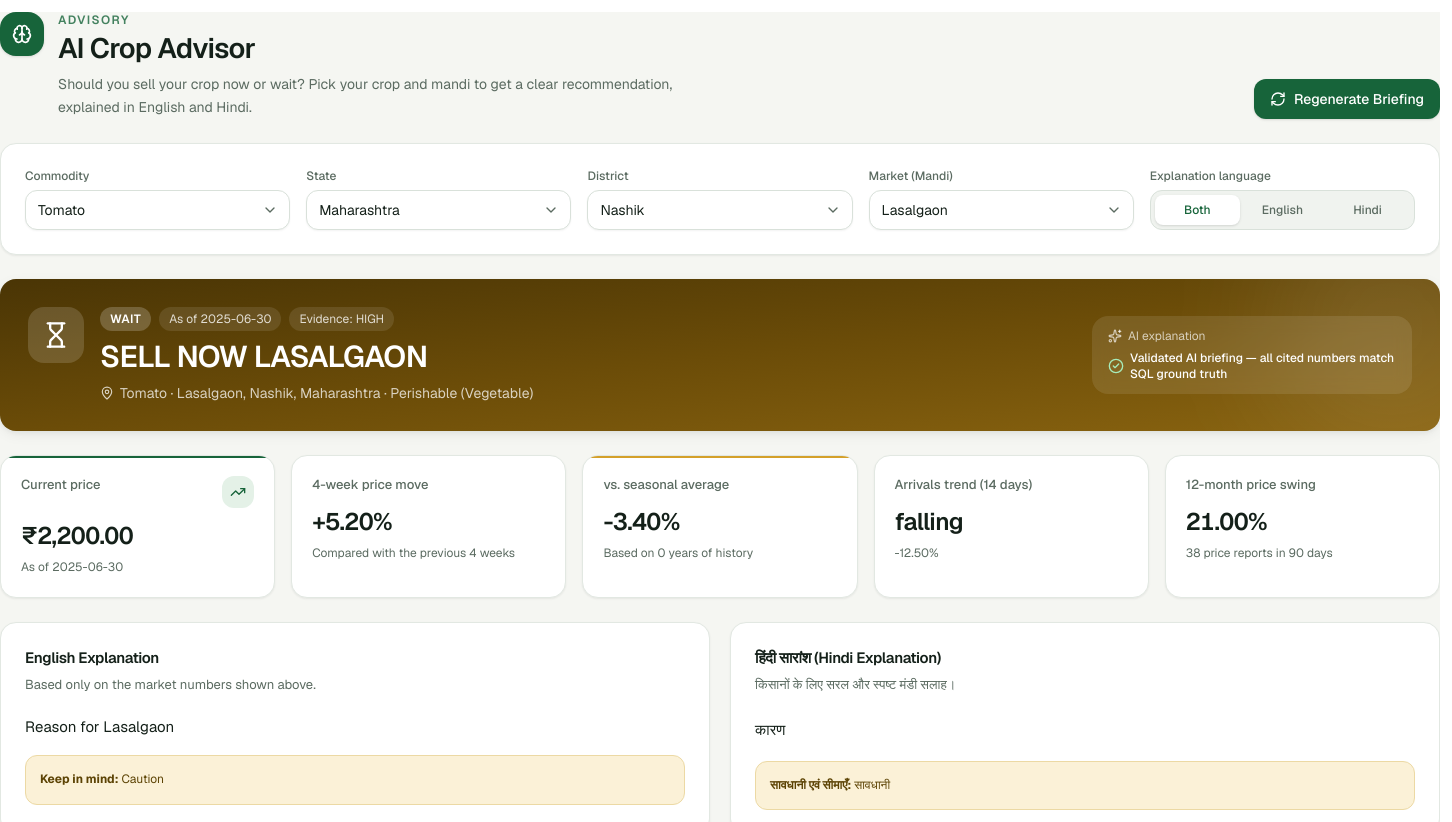
it: AI Advisor market switch (stale verdict) › hides the previous market's verdict while the new market's request is in flight
The image size is (1452, 822).
Later steps or results of the test are not shown.
Expected: the heading "SELL NOW LASALGAON" is shown, x1=100 y1=337 x2=428 y2=376
Select "Pimpalgaon" in the dropdown labelled "Market (Mandi)" at coordinates (1001, 210), box x1=869 y1=190 x2=1134 y2=230
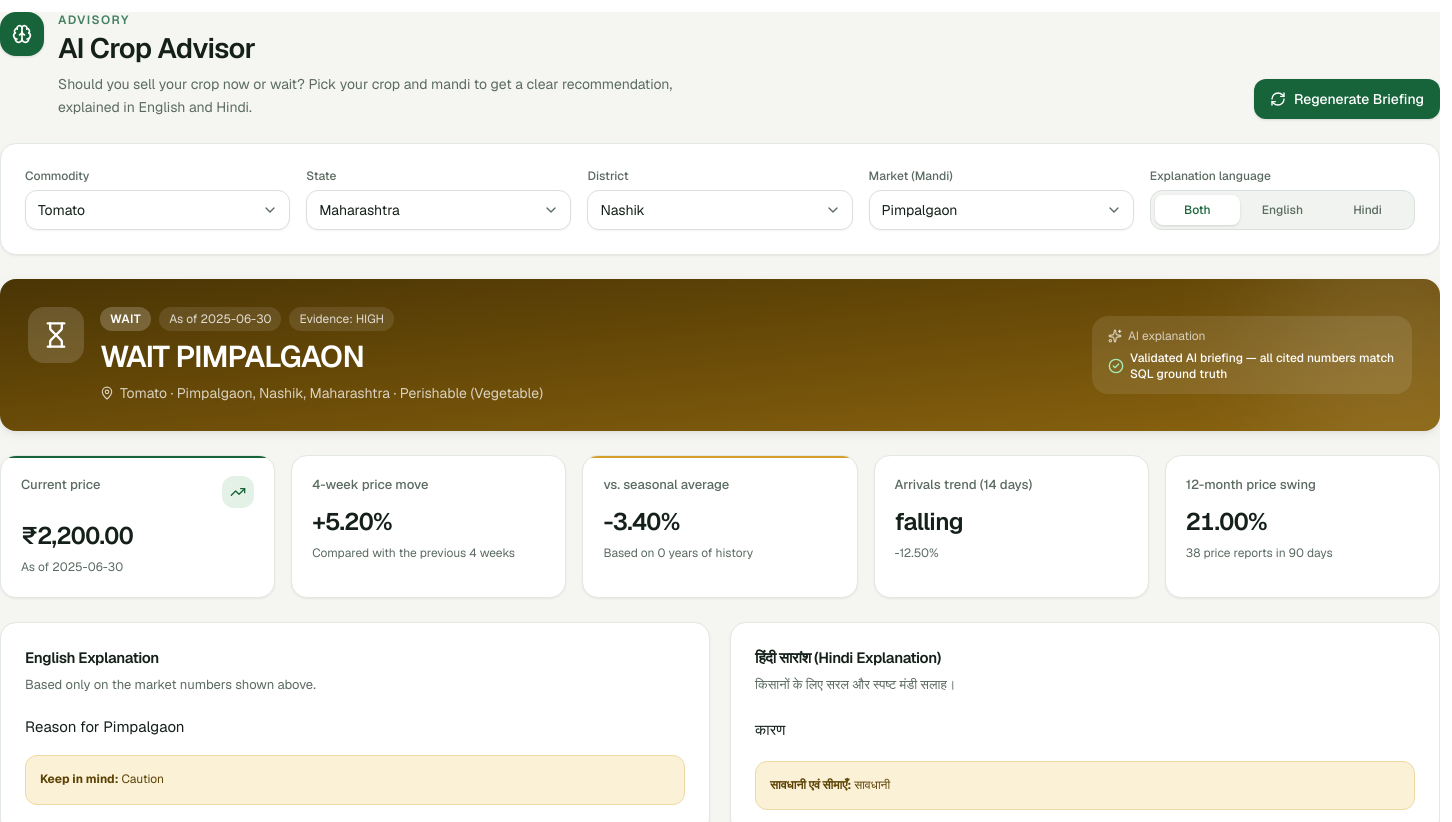
Expected: the heading "SELL NOW LASALGAON" is gone
Expected: the heading "WAIT PIMPALGAON" is shown, x1=100 y1=337 x2=364 y2=376
Expected: the text "Reason for Lasalgaon" is gone
